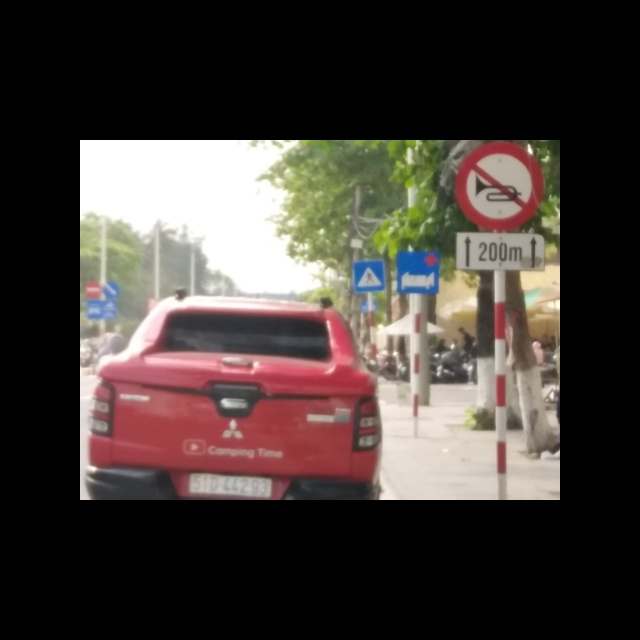Bệnh viện: (398, 249, 439, 295)
Cấm bấm còi: (454, 146, 541, 235)
Đường dành cho người đi bộ: (349, 262, 387, 294)
